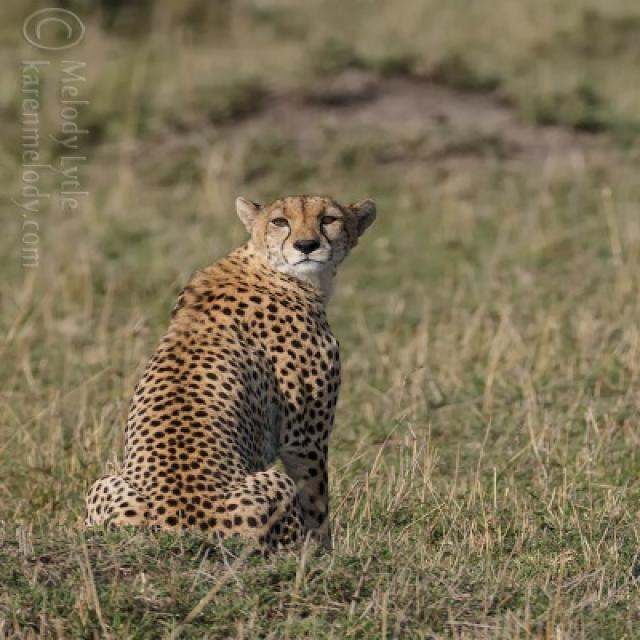Cheetah: (88, 197, 378, 552)
